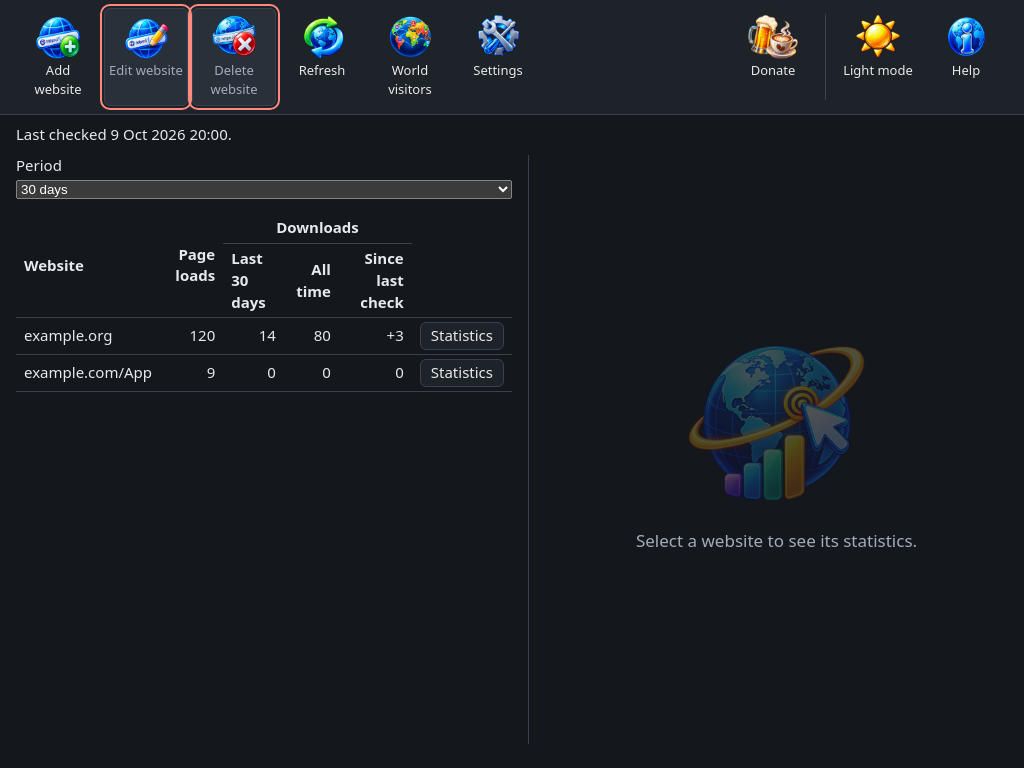
Scenario: the check › keeps the list when a new period is refused
Select "7 days" in the dropdown labelled "Period" at (264,190), box [16, 180, 512, 199]
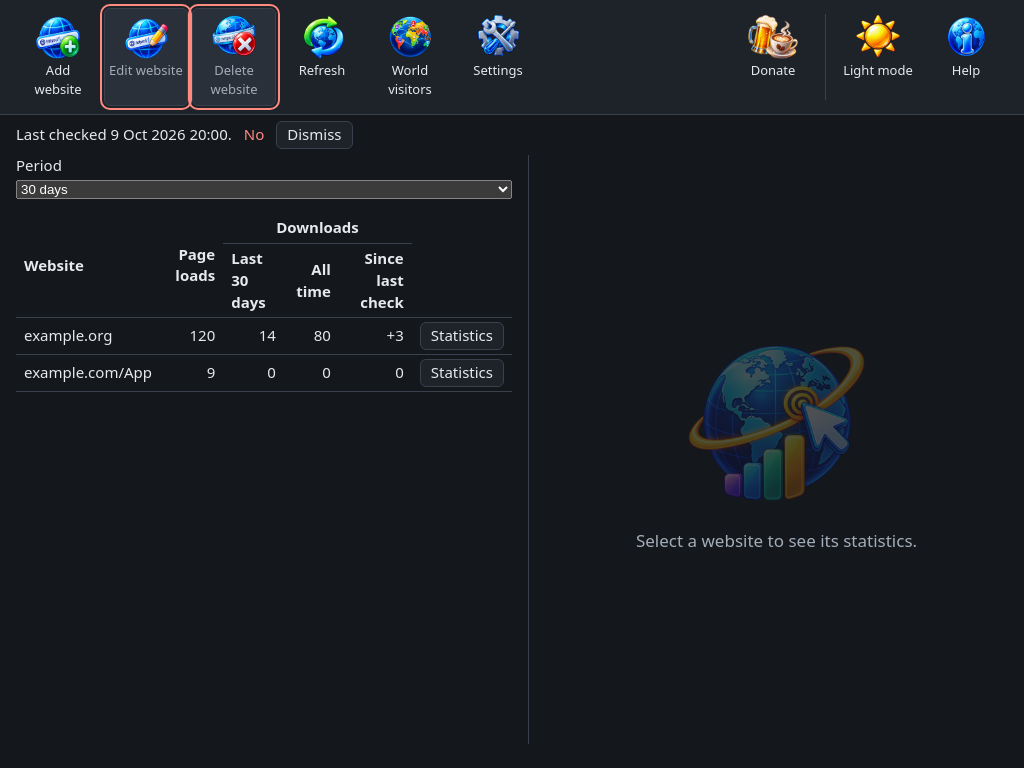
Result: the text "No" is shown at [244, 124, 264, 146]
